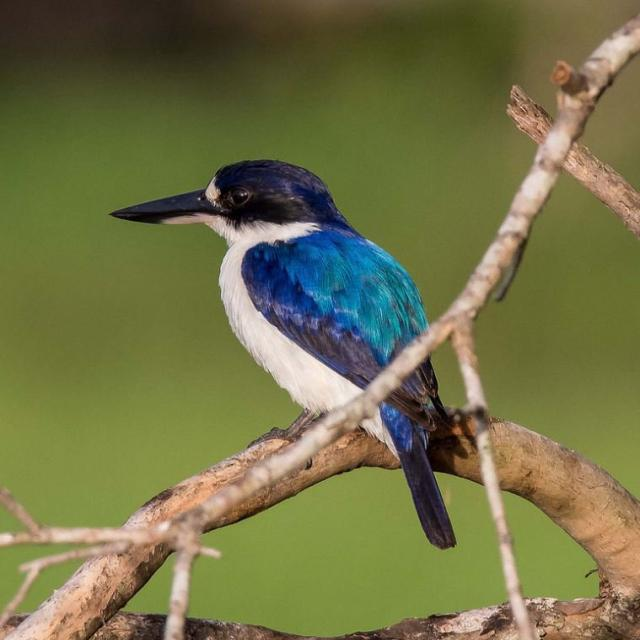kingfisher: (73, 149, 572, 556)
